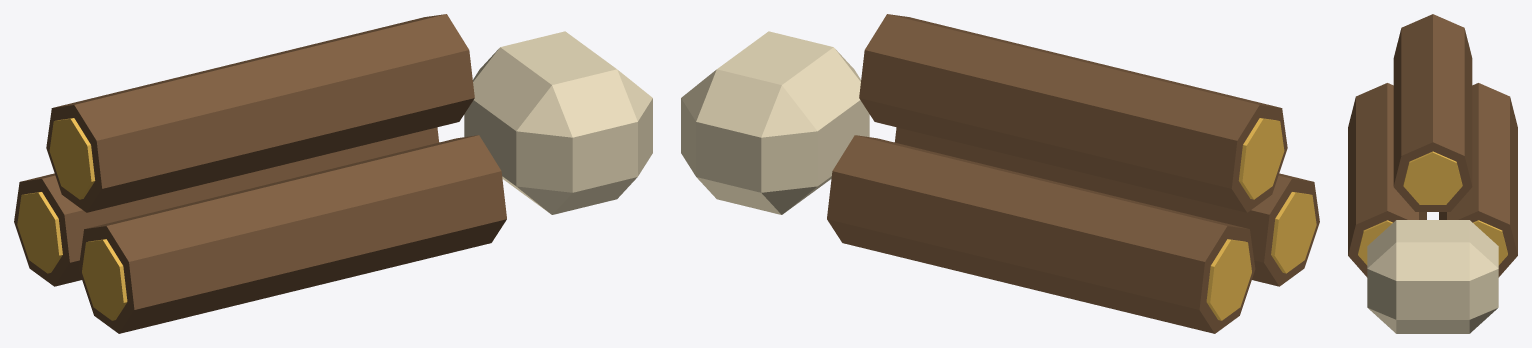
Rendered from ns-logs.glb.
3 views of the same model, side by side, from view 1: azimuth 30°, elevation 25°; view 2: azimuth 150°, elevation 25°; view 3: azimuth 270°, elevation 25° (orthographic). The views are drawn at different scales.
Visible parts, largest first — view 1: Tapered form; view 2: Tapered form; view 3: Tapered form.
Boxes of the visible parts, <box> form: Tapered form: <box>14,14,652,333</box>; Tapered form: <box>681,14,1319,333</box>; Tapered form: <box>1348,14,1517,333</box>.
Bounding box in the file's own units: 0.448 × 0.155 × 0.168.
